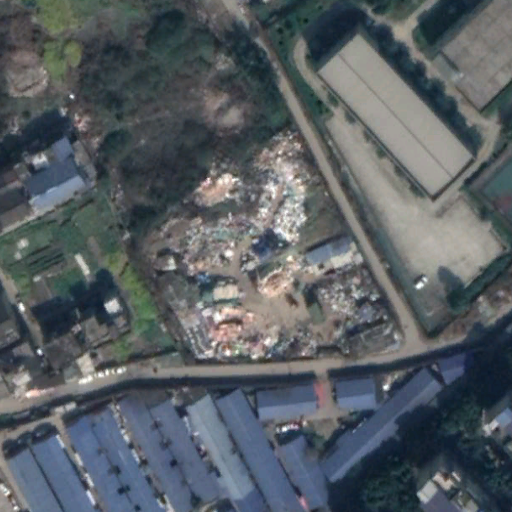msw: (165, 129, 399, 357)
